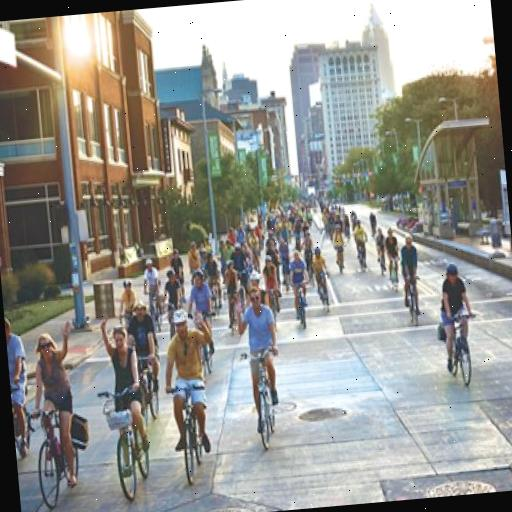helmet: (432, 249, 484, 394), (181, 262, 225, 374), (134, 248, 168, 330), (304, 240, 338, 316)
no helmet: (16, 310, 94, 508), (93, 307, 159, 501), (226, 278, 292, 460), (394, 224, 428, 334), (280, 242, 319, 330), (378, 214, 404, 294), (344, 208, 372, 276)
